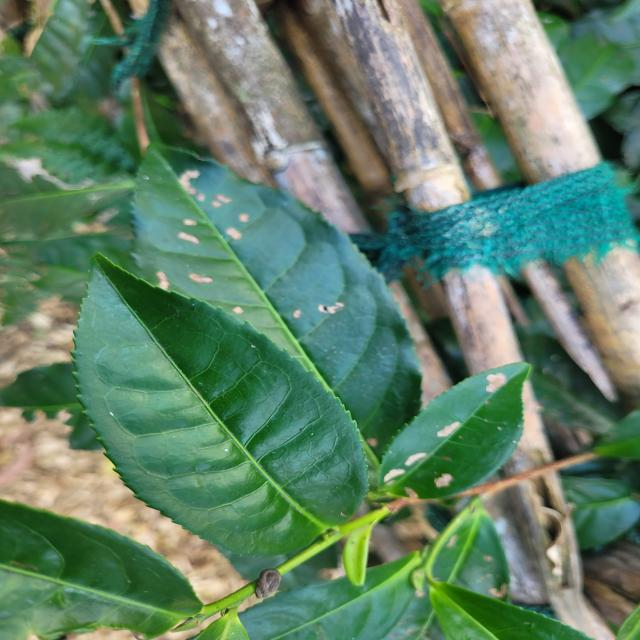Category D(7+ days, Not for Tea): (51, 234, 375, 572)
